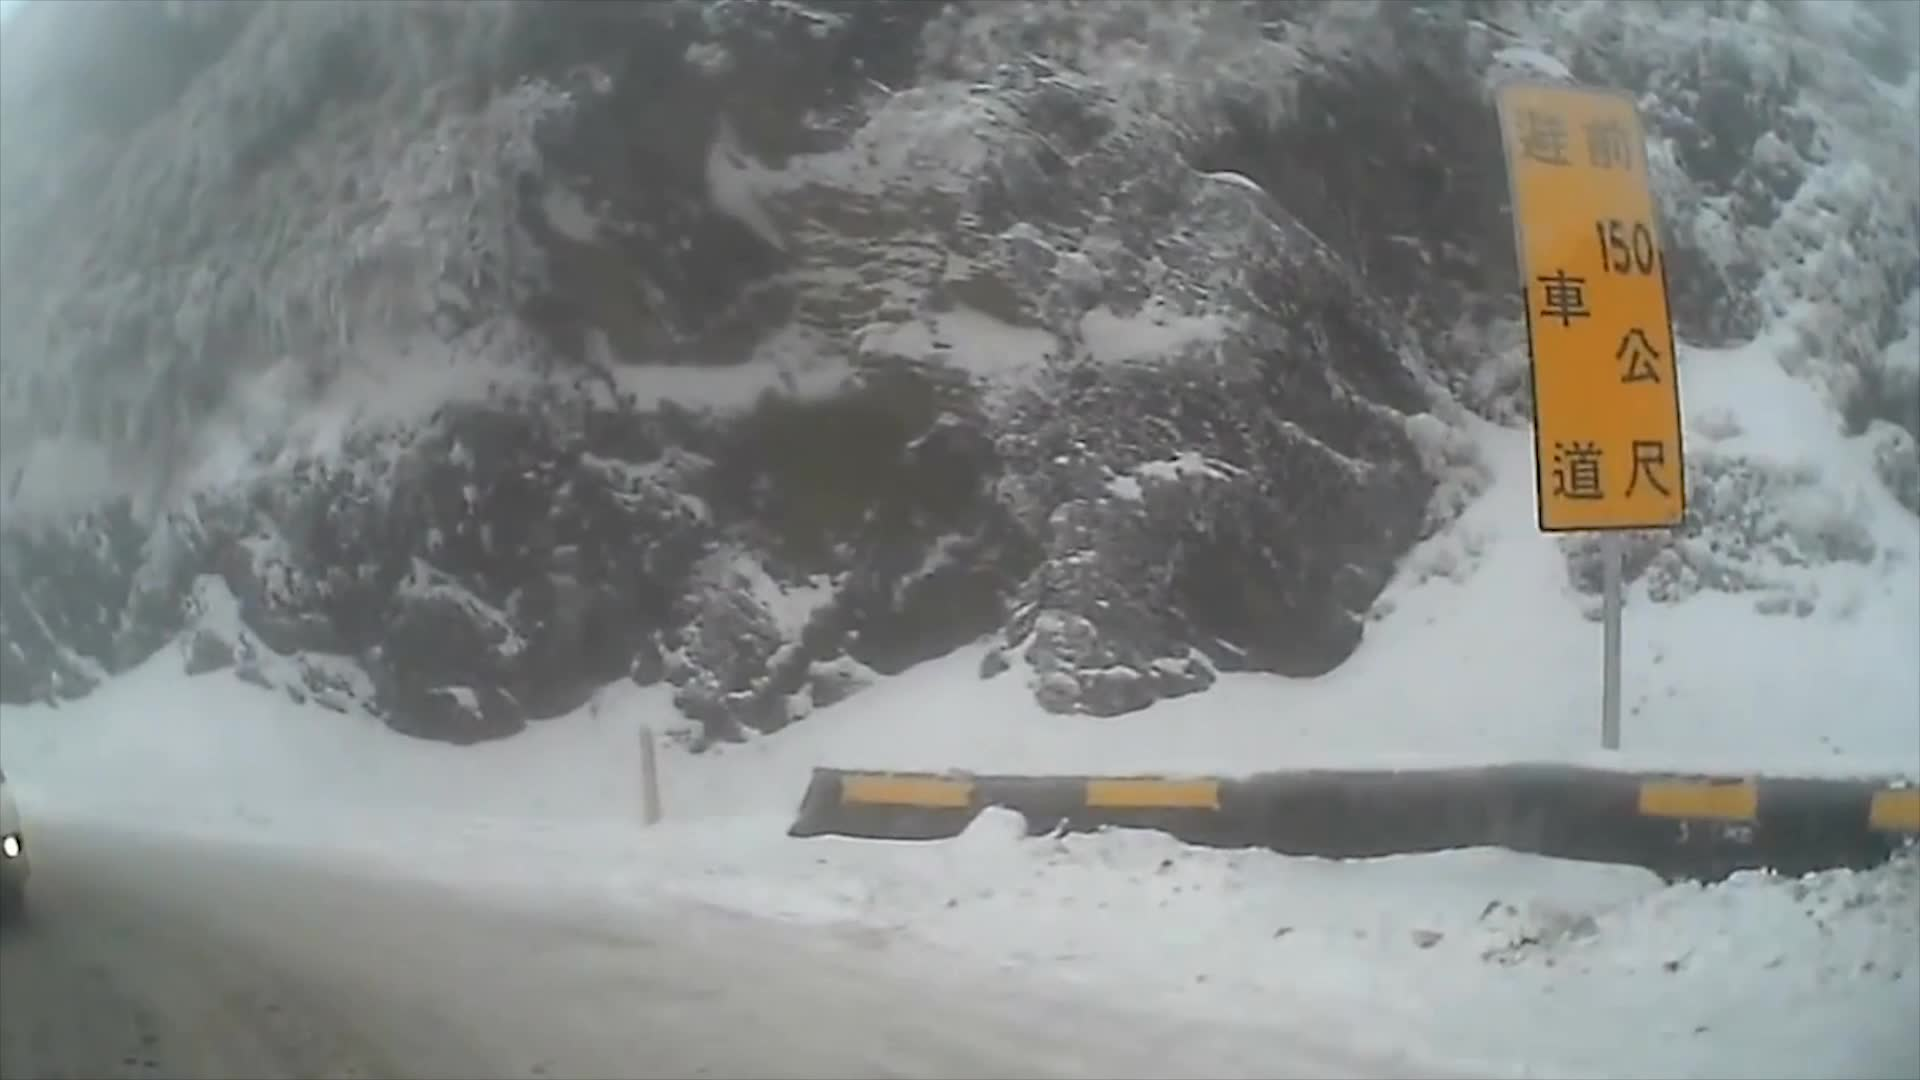vehicle: (0, 775, 30, 920)
